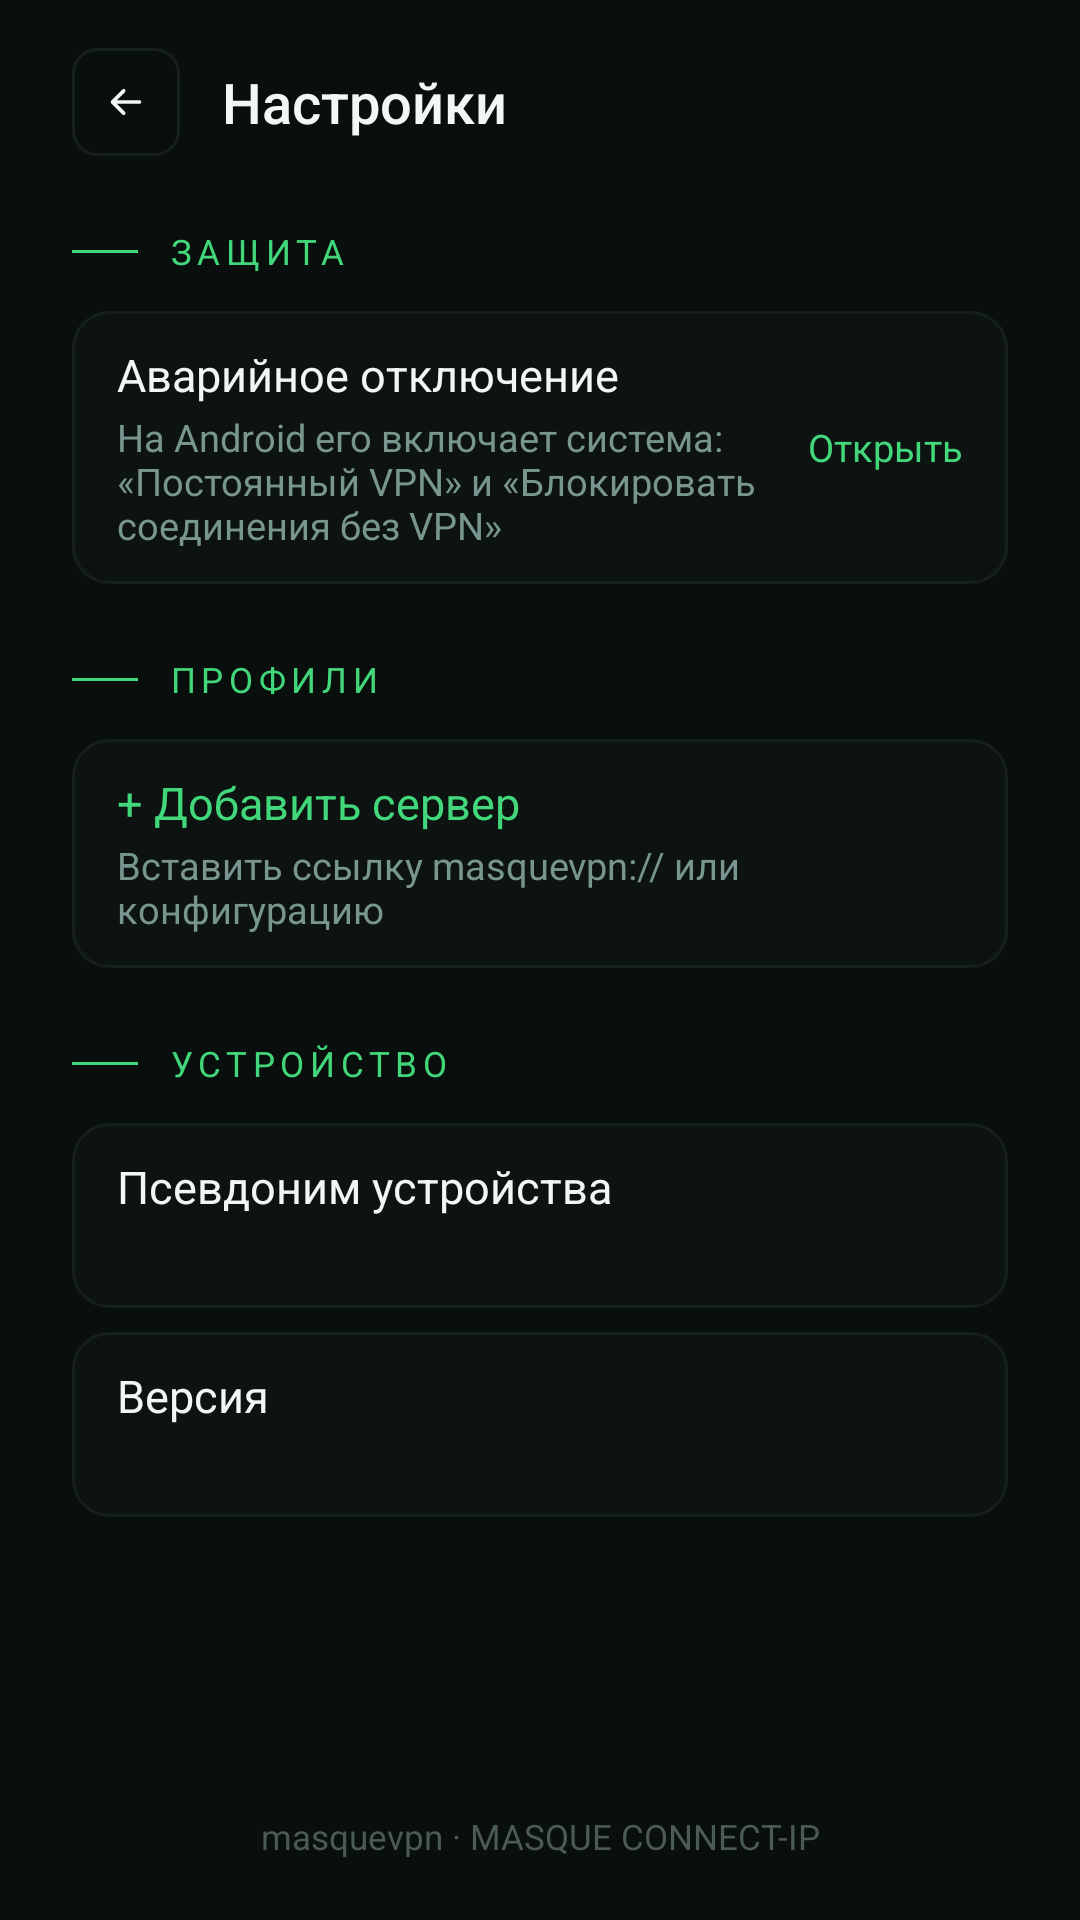

Icons on this 1080×1920 Android screen, each with the point to tap as (x,y):
Назад: (126,101)
